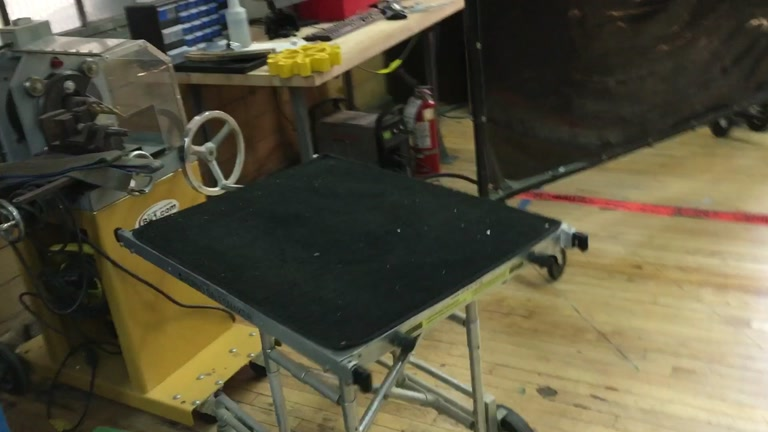gear: (265, 39, 341, 79)
